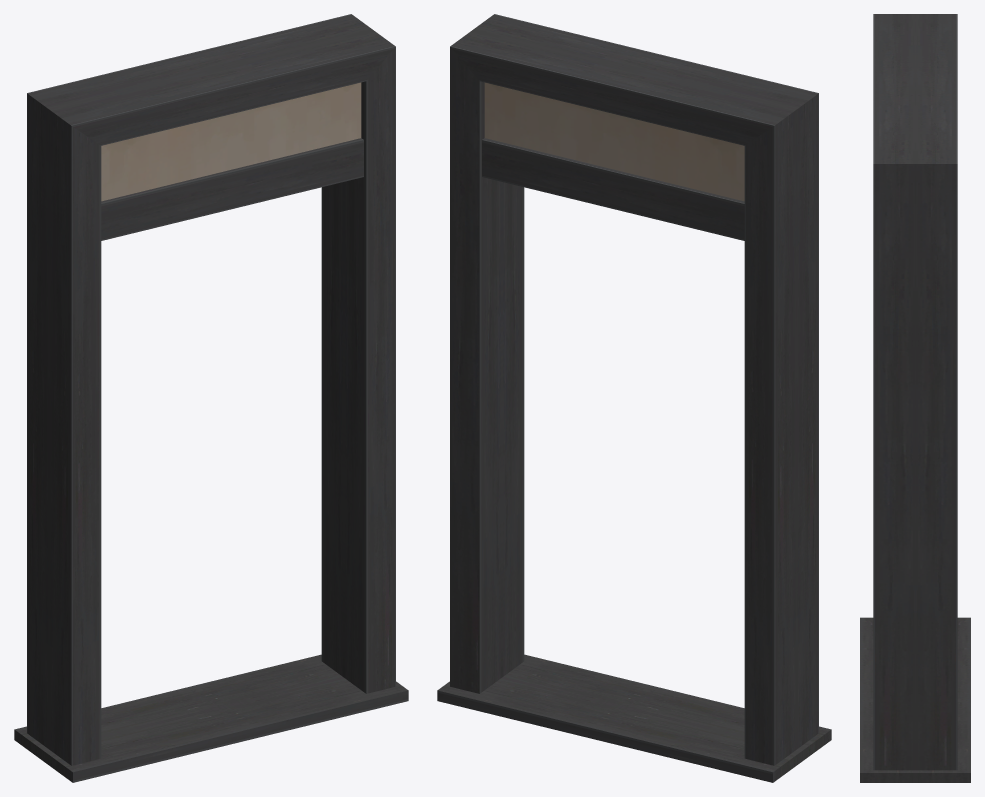
File: Homeworld_Interior_Dq_Room_Door_01_01_Vo.fbx
The picture shows the model from 3 angles, left to right: view 1: azimuth 30°, elevation 25°; view 2: azimuth 150°, elevation 25°; view 3: azimuth 270°, elevation 25°; orthographic projection. The views are drawn at different scales.
Visible parts, largest first — view 1: Homeworld_Interior_Dq_Room_Door_01_01_Vo; view 2: Homeworld_Interior_Dq_Room_Door_01_01_Vo; view 3: Homeworld_Interior_Dq_Room_Door_01_01_Vo.
Part boxes in pixels (x1=…): Homeworld_Interior_Dq_Room_Door_01_01_Vo: x1=14, y1=14, x2=408, y2=782; Homeworld_Interior_Dq_Room_Door_01_01_Vo: x1=437, y1=14, x2=831, y2=782; Homeworld_Interior_Dq_Room_Door_01_01_Vo: x1=860, y1=14, x2=970, y2=782.
Bounding box in the file's own units: 2.17 × 4.02 × 0.6559.
